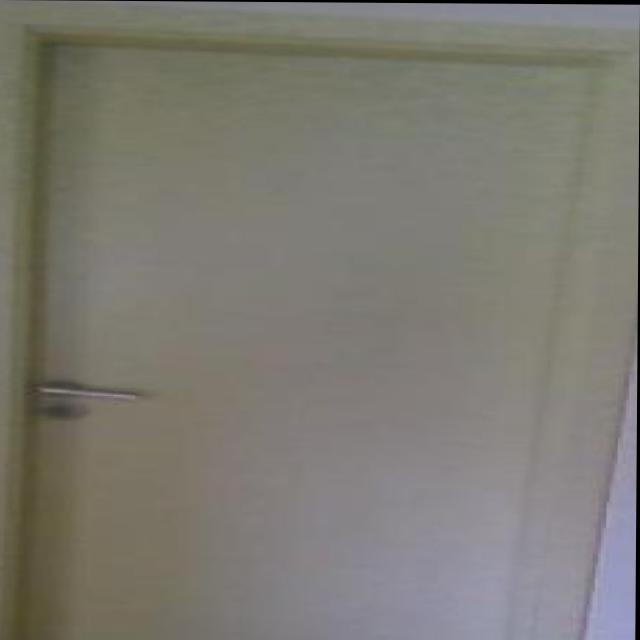door_handle: (25, 379, 154, 410)
